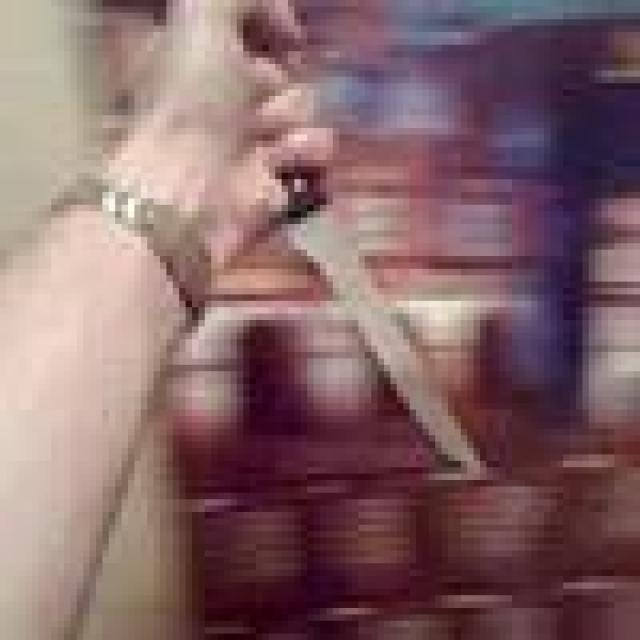faca: (128, 0, 493, 525)
